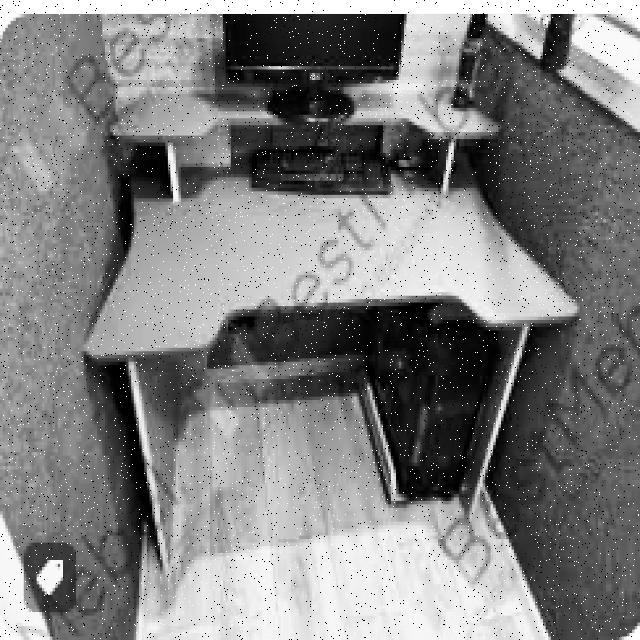table: (117, 76, 506, 635)
